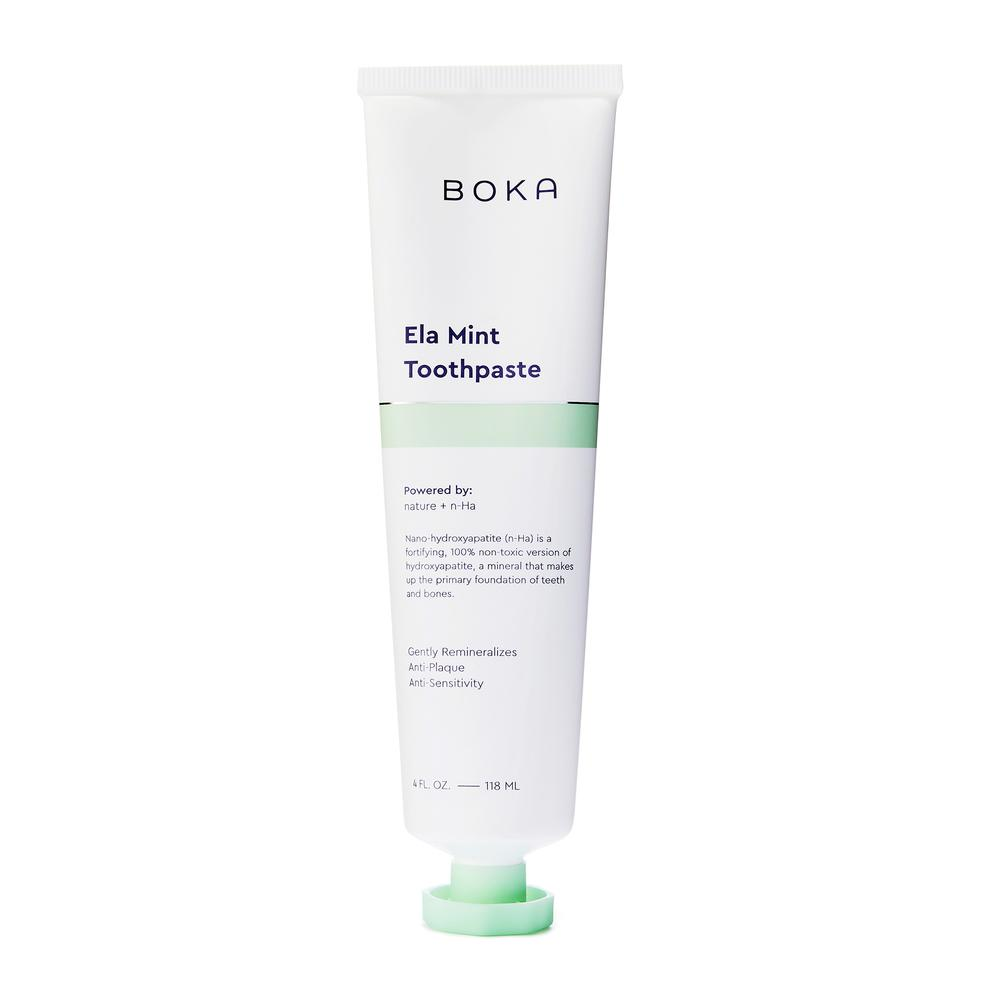toothpaste: (349, 54, 641, 967)
